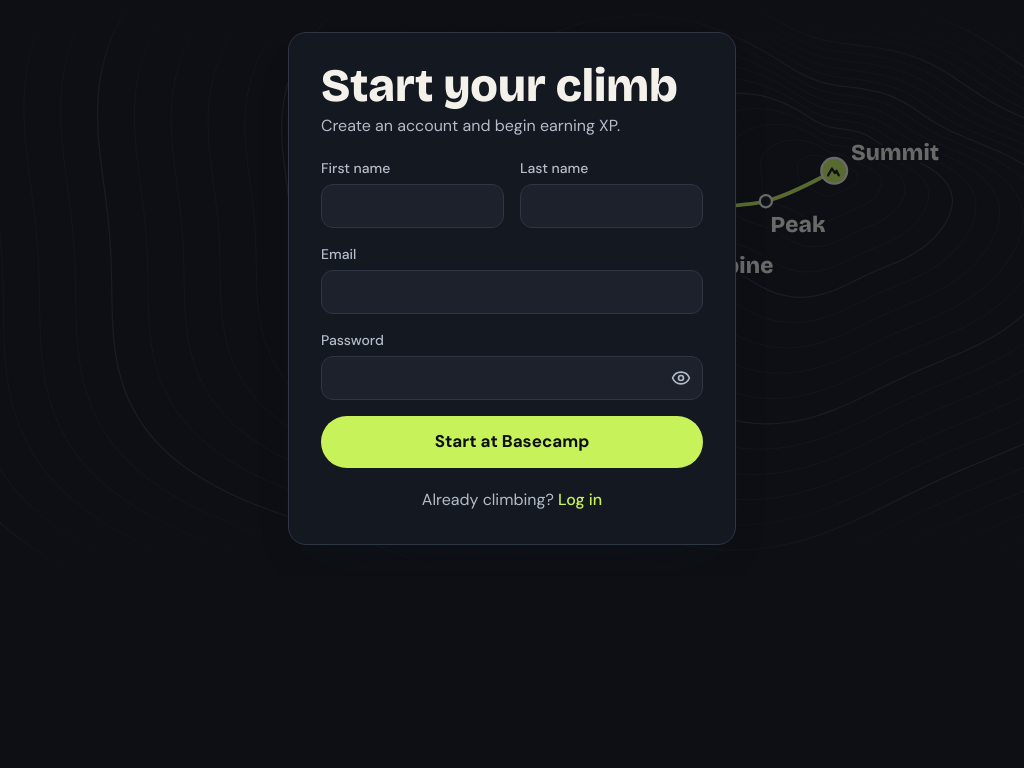
Test: AuthPage: sign up face › shows the server message and stays signed out when sign-up fails
The image size is (1024, 768).
In the field labelled "First name": (412, 206) left=321, top=184, right=504, bottom=228, type "  Ada "
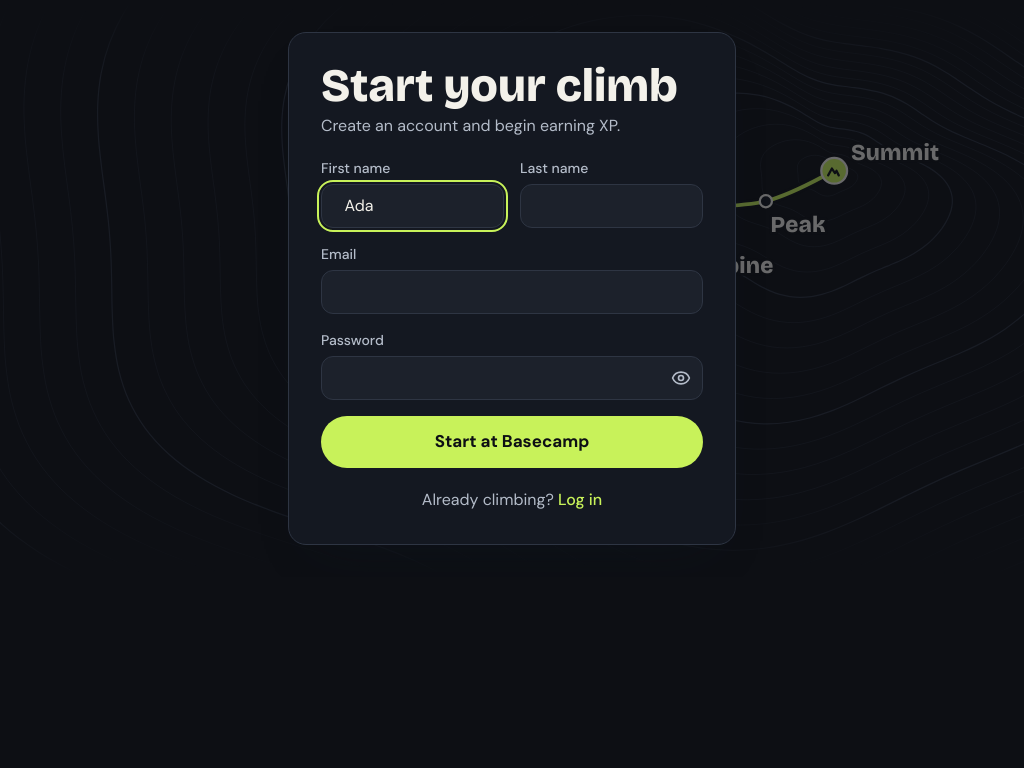
In the field labelled "Last name": (612, 206) left=520, top=184, right=703, bottom=228, type "Lovelace"
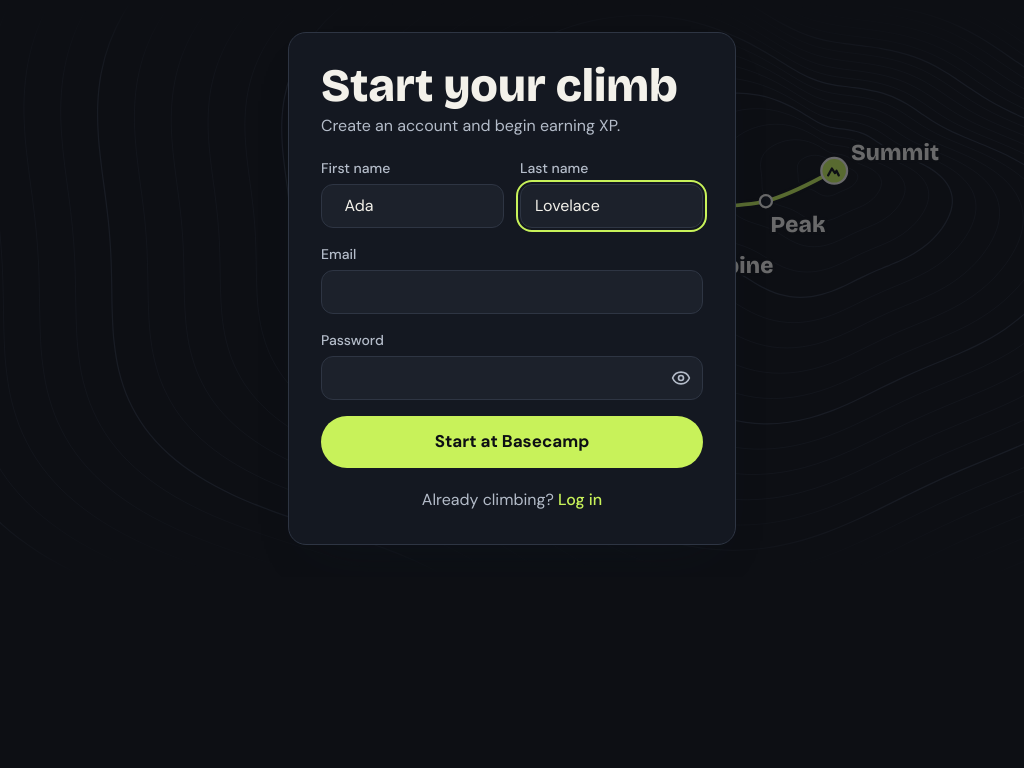
In the field labelled "Email": (512, 292) left=321, top=270, right=703, bottom=314, type "ada@example.com"
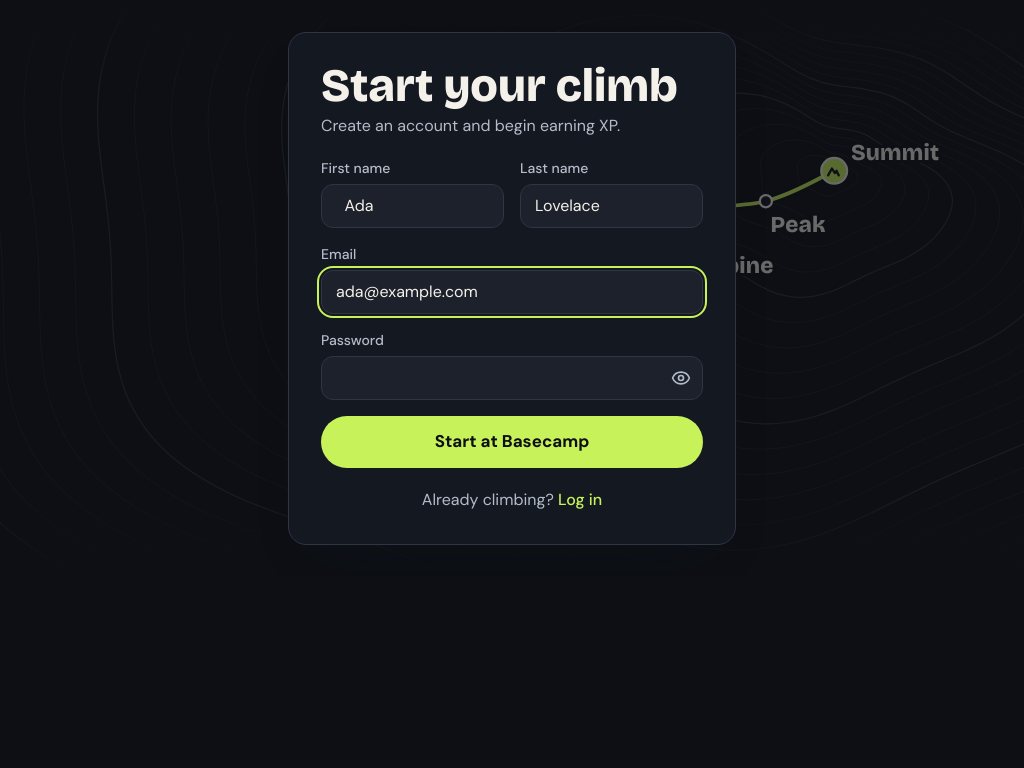
In the password field labelled "Password": (512, 378) left=321, top=356, right=703, bottom=400, type "secret"
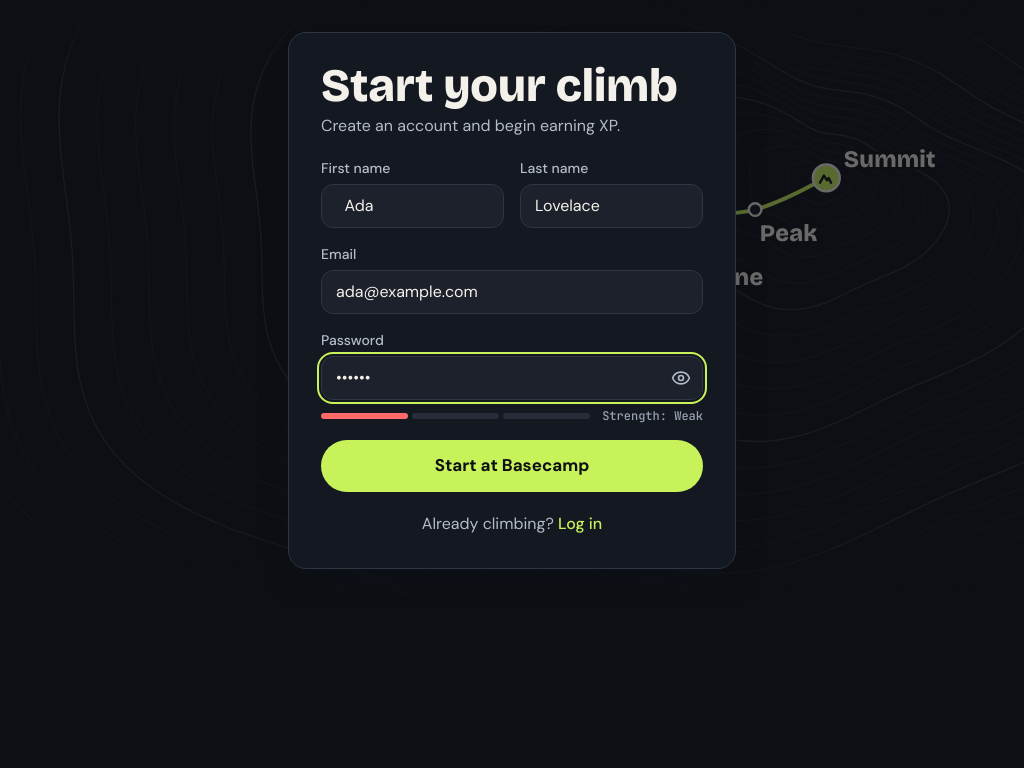
Click the button "Start at Basecamp": (512, 466) left=321, top=440, right=703, bottom=492
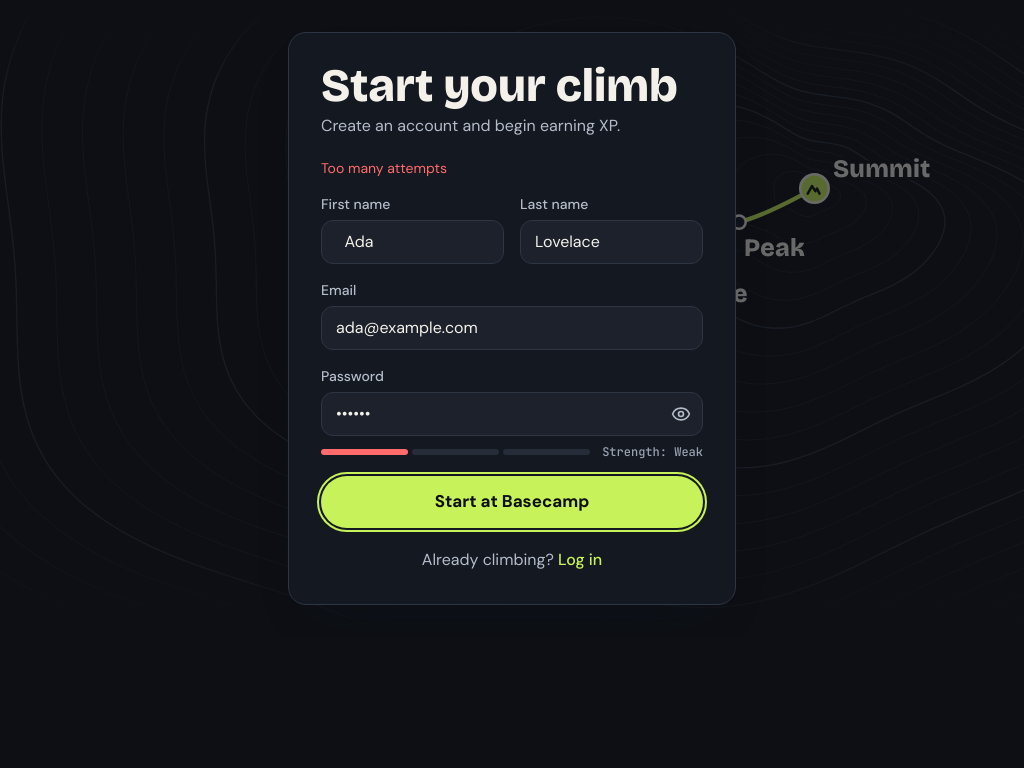
Result: the message "Too many attempts" is shown at left=321, top=159, right=447, bottom=177
